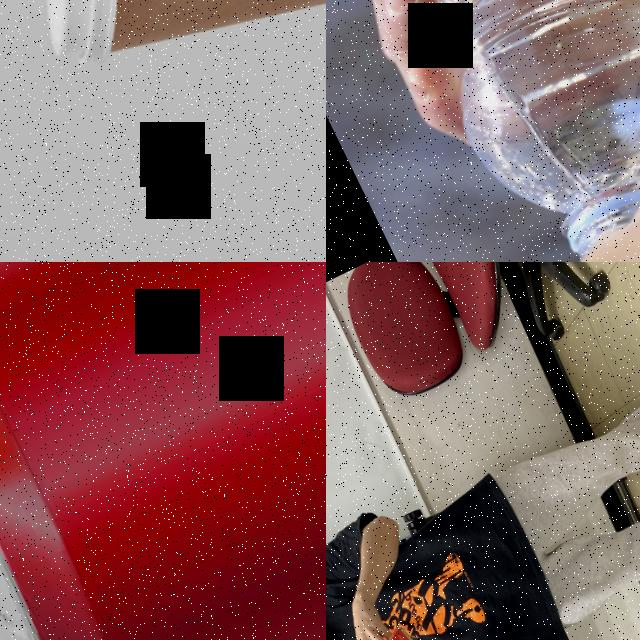bottle: (326, 0, 640, 262)
can: (0, 262, 326, 640)
cup: (0, 0, 326, 132)
